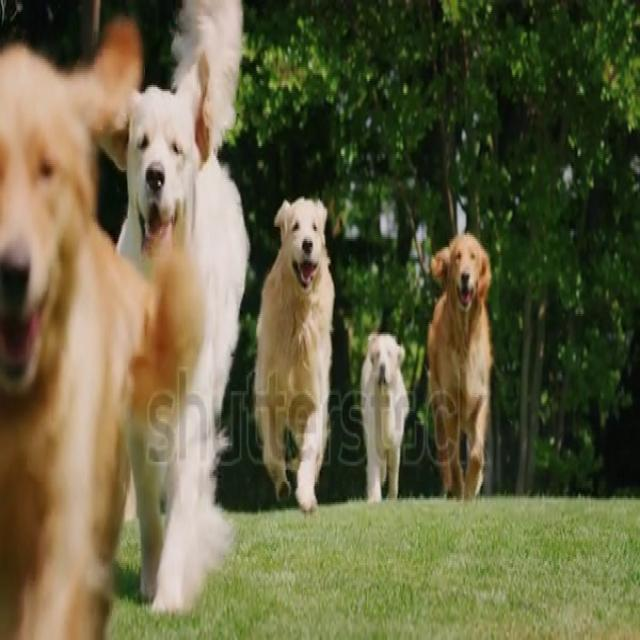normal_animals: (102, 106, 275, 564), (0, 12, 108, 638), (239, 189, 366, 498), (422, 199, 534, 500), (346, 282, 432, 525)
